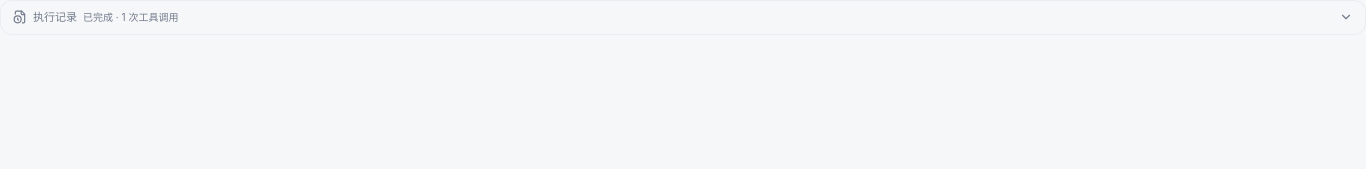
Test: TraceTimeline › distinguishes tool exposure and model-side search from execution
What coordinates should you click on to do the following:
click the button "执行记录 已完成 · 1 次工具调用"
I would click on:
 (55, 17)
Its box is [13,9,1353,26].
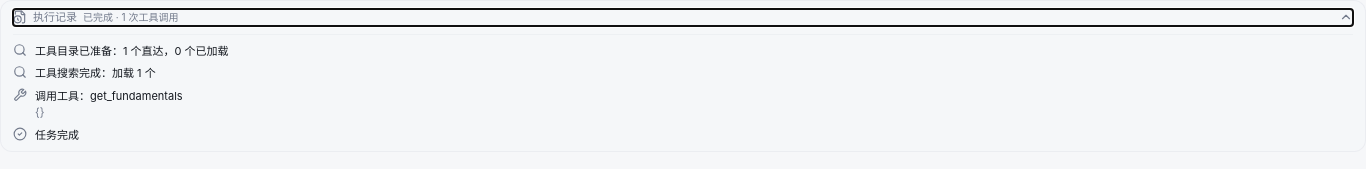
Result: the text "工具目录已准备：1 个直达，0 个已加载" is shown at [35,42,229,59]
Result: the text "工具搜索完成：加载 1 个" is shown at [35,65,156,82]
Result: the text "调用工具：get_fundamentals" is shown at [35,88,183,104]
